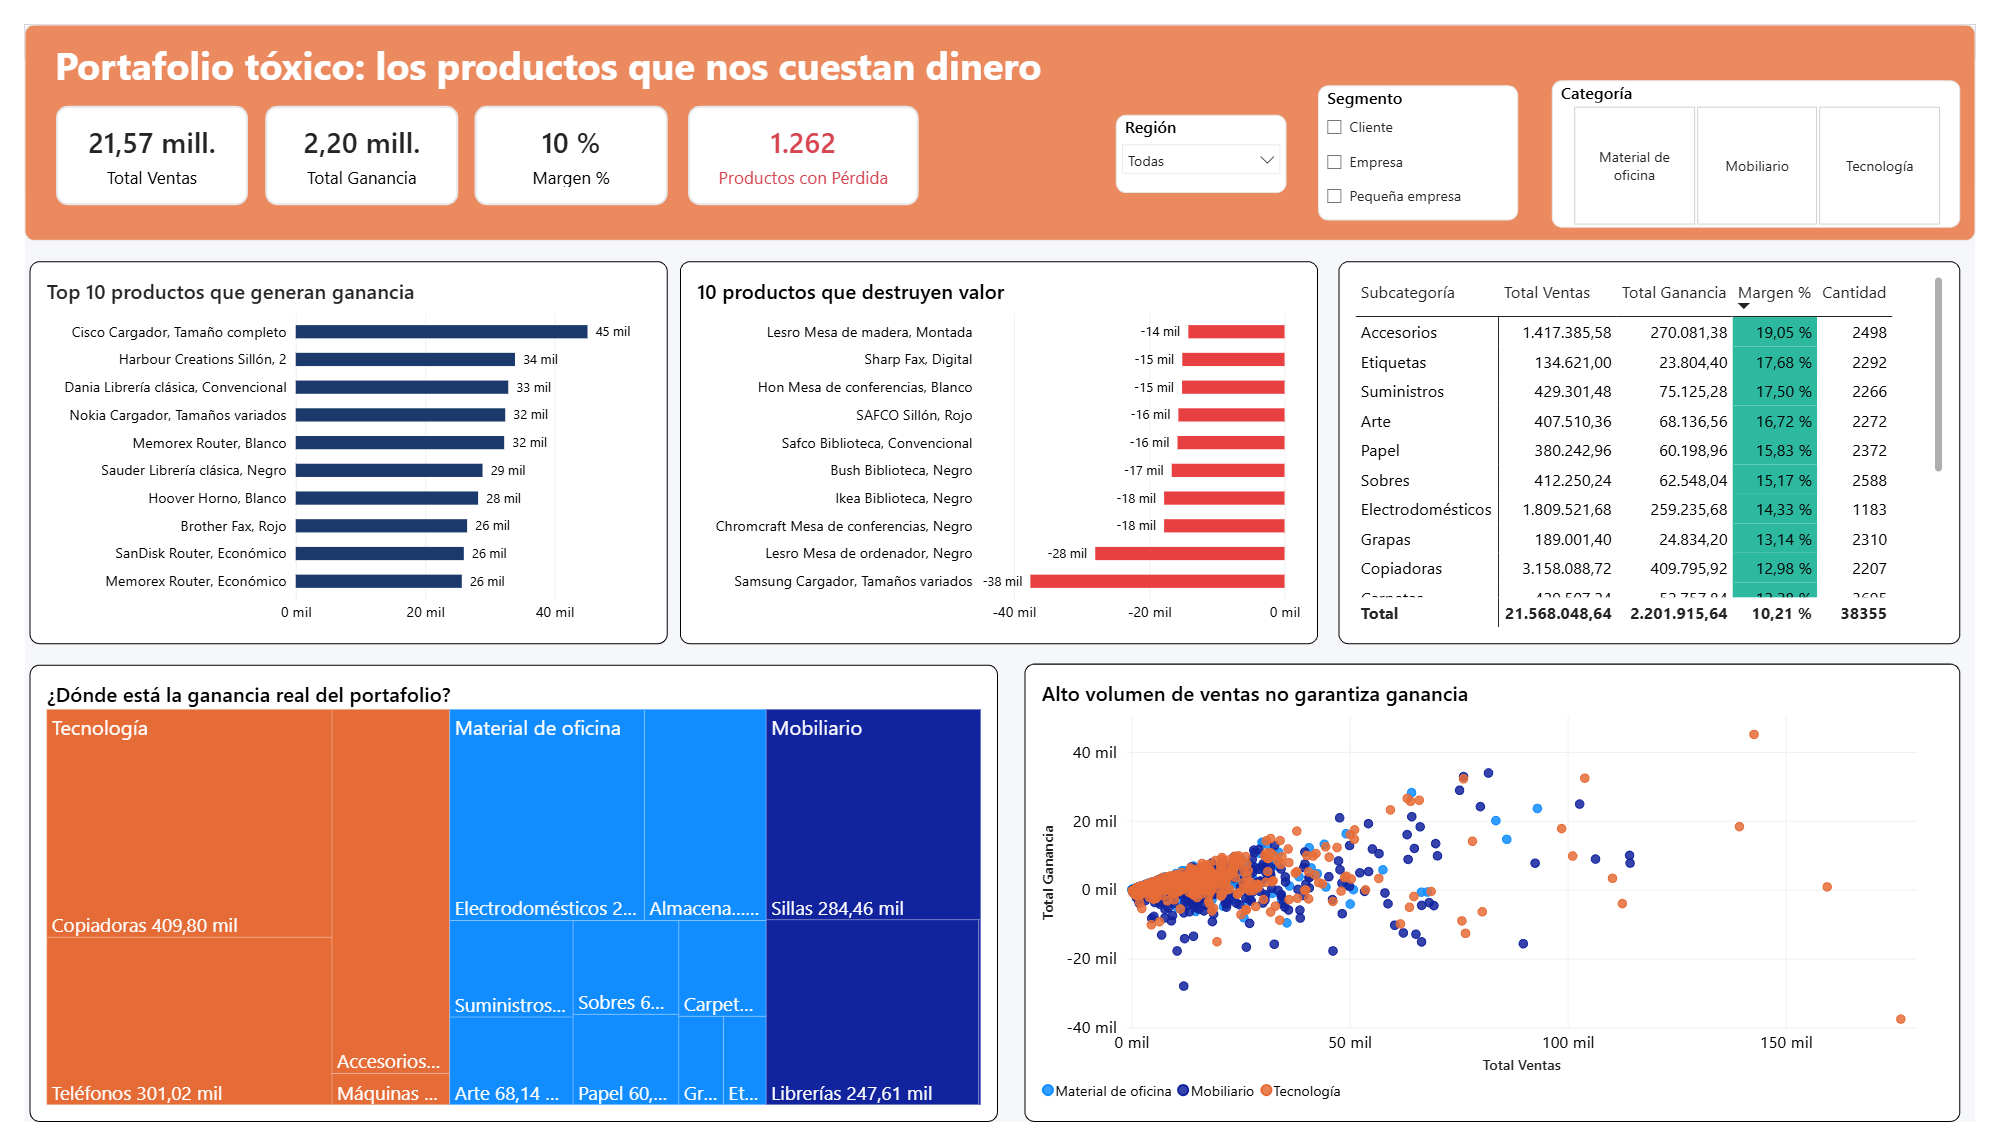

What the dashboard file says about the page in this screenshot:
{"tool":"powerbi","page":{"name":"Dashboard 2 - Gestión de Producto","canvas":[1920,1080],"ordinal":1},"visuals":[{"type":"shape","box":[0,0,1919.8,212.6],"z":0},{"type":"treemap","title":"¿Dónde está la ganancia real del portafolio?","fields":{"Details":["data.Subcategoria"],"Group":["data.Categoria"],"Values":["_Dax.Total Ganancia"]},"box":[5,630,952.5,450],"z":1000},{"type":"barChart","title":"10 productos que destruyen valor","fields":{"Category":["data.NombreProducto"],"Y":["_Dax.Total Ganancia"]},"box":[645,232.5,627.5,377.5],"z":2000},{"type":"barChart","title":"Top 10 productos que generan ganancia","fields":{"Category":["data.NombreProducto"],"Y":["_Dax.Total Ganancia"]},"box":[5,232.5,627.5,377.5],"z":3000},{"type":"pivotTable","fields":{"Rows":["data.Subcategoria"],"Values":["_Dax.Total Ventas","_Dax.Total Ganancia","_Dax.Margen %","Sum(data.Cantidad)"]},"box":[1292.5,232.5,612.5,377.5],"z":4000},{"type":"scatterChart","title":"Alto volumen de ventas no garantiza ganancia","fields":{"Category":["data.NombreProducto"],"Series":["data.Categoria"],"X":["_Dax.Total Ventas"],"Y":["_Dax.Total Ganancia"]},"box":[984.3,629.3,920.6,450.7],"z":5000},{"type":"slicer","fields":{"Values":["data.Categoria"]},"box":[1502.5,55,402.5,145],"z":6000},{"type":"slicer","fields":{"Values":["data.Region"]},"box":[1073.6,89.3,168,76.5],"z":7000},{"type":"slicer","fields":{"Values":["data.Segmento"]},"box":[1272.5,60,197.5,132.5],"z":8000},{"type":"textbox","box":[30,15,1280,57.5],"z":9000},{"type":"card","fields":{"Values":["_Dax.Total Ventas"]},"box":[30.6,79.6,189.8,98],"z":10000},{"type":"card","fields":{"Values":["_Dax.Total Ganancia"]},"box":[236.7,79.6,189.8,98],"z":11000},{"type":"card","fields":{"Values":["_Dax.Productos con Pérdida"]},"box":[653.1,79.6,226.5,98],"z":12000},{"type":"card","fields":{"Values":["_Dax.Margen %"]},"box":[442.9,79.6,189.8,98],"z":13000}]}

Visuals, with their boxes in screenshot pixels (x1, y1, x2, y2), scaled from the page's 1920x1080 canvas onto the 2000x1146 screenshot:
shape: [0, 0, 1999, 226]
"¿Dónde está la ganancia real del portafolio?" treemap: [5, 668, 997, 1145]
"10 productos que destruyen valor" barChart: [672, 247, 1326, 647]
"Top 10 productos que generan ganancia" barChart: [5, 247, 659, 647]
pivotTable - data.Subcategoria x _Dax.Total Ventas: [1346, 247, 1984, 647]
"Alto volumen de ventas no garantiza ganancia" scatterChart: [1025, 668, 1984, 1145]
slicer - data.Categoria: [1565, 58, 1984, 212]
slicer - data.Region: [1118, 95, 1293, 176]
slicer - data.Segmento: [1326, 64, 1531, 204]
textbox: [31, 16, 1365, 77]
card - _Dax.Total Ventas: [32, 84, 230, 188]
card - _Dax.Total Ganancia: [247, 84, 444, 188]
card - _Dax.Productos con Pérdida: [680, 84, 916, 188]
card - _Dax.Margen %: [461, 84, 659, 188]
